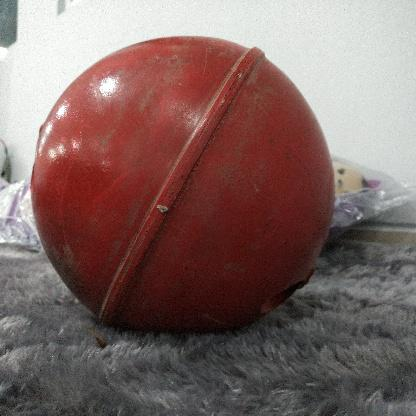red_buoy: (30, 34, 336, 334)
